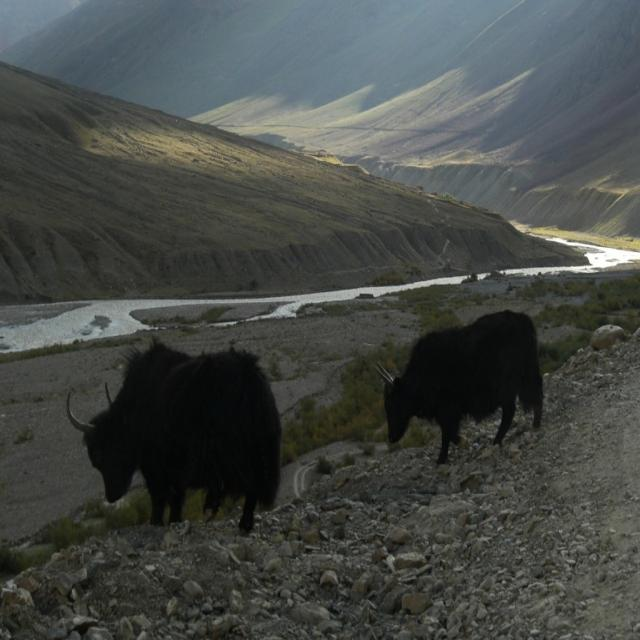Cattle: (67, 331, 281, 535), (374, 310, 544, 466)
